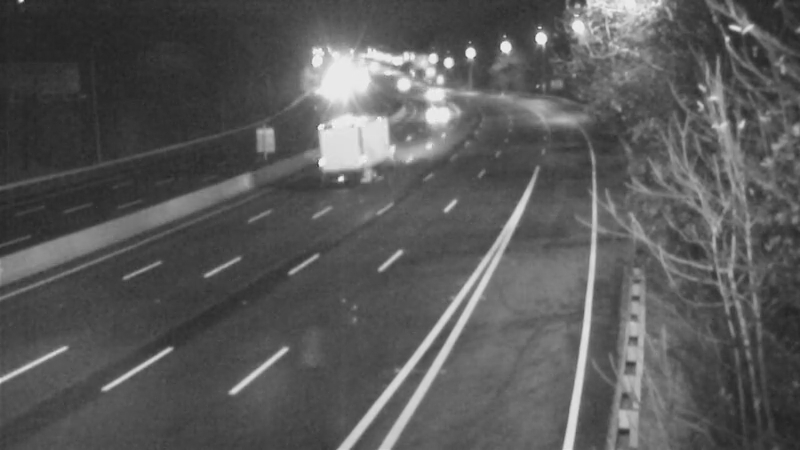vehicle: (377, 60, 427, 110), (410, 69, 460, 119), (408, 88, 458, 138), (341, 113, 391, 163)
